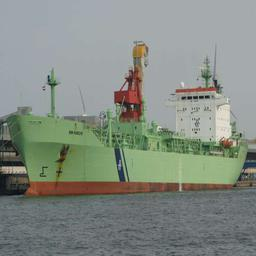Ship: (3, 80, 251, 198)
